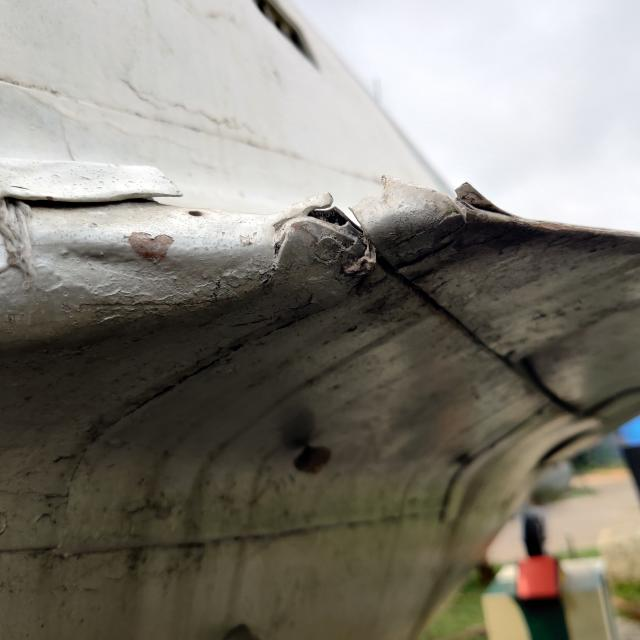crack: (382, 162, 531, 237), (284, 171, 378, 256)
